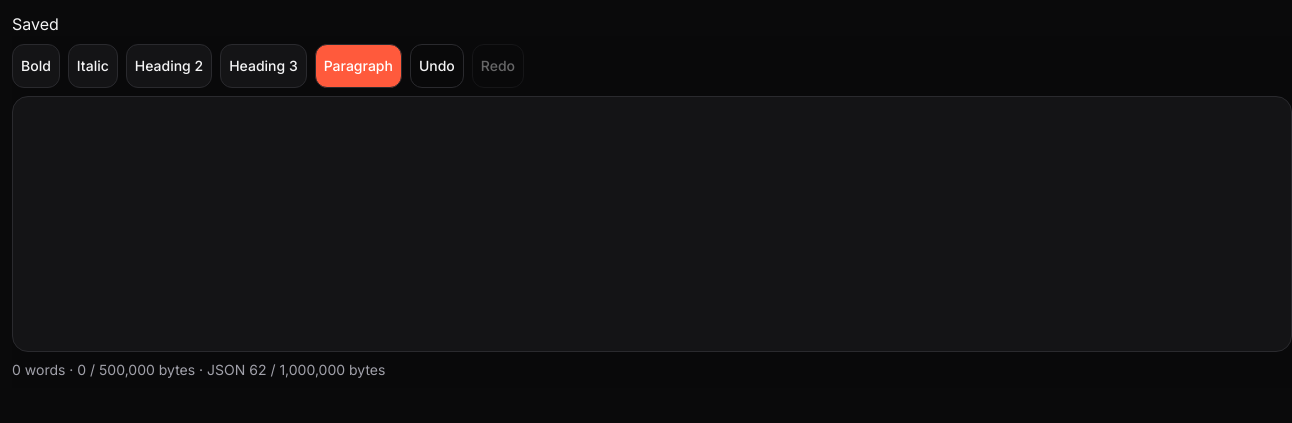
Scenario: RichTextEditor format failures › shows aria-live status when conversion fails and save label stays unsaved
Clear the field named "Write your piece". click: (652, 224)
box: [12,96,1291,352]
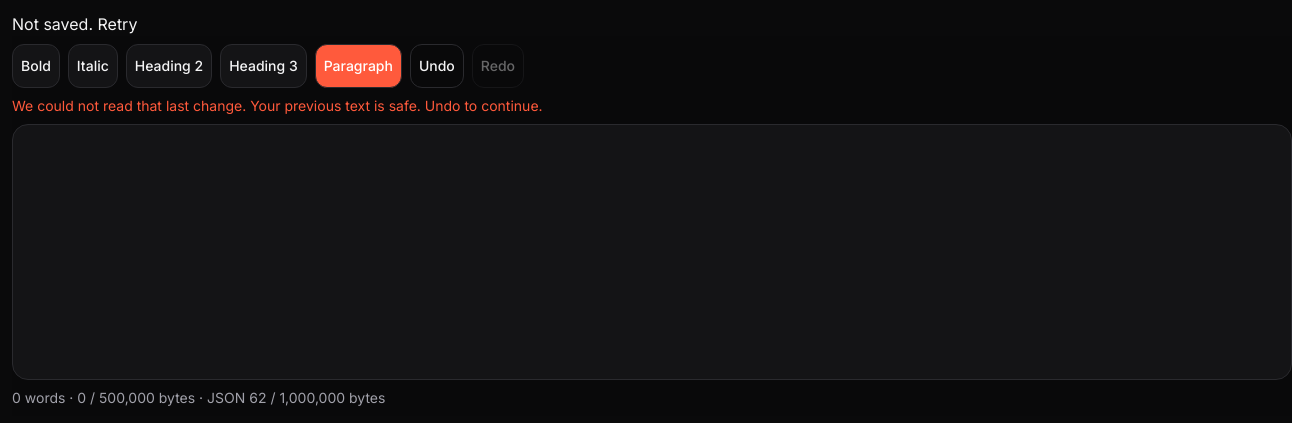
expect the message shows "We could not read that last change. Your previous text is safe. Undo to continue.": met, box [12,97,543,114]
expect the text with test id "save-label" reads "Not saved. Retry": met, box [12,14,137,34]
expect the text with test id "save-label" no longer shows "Saved": met
